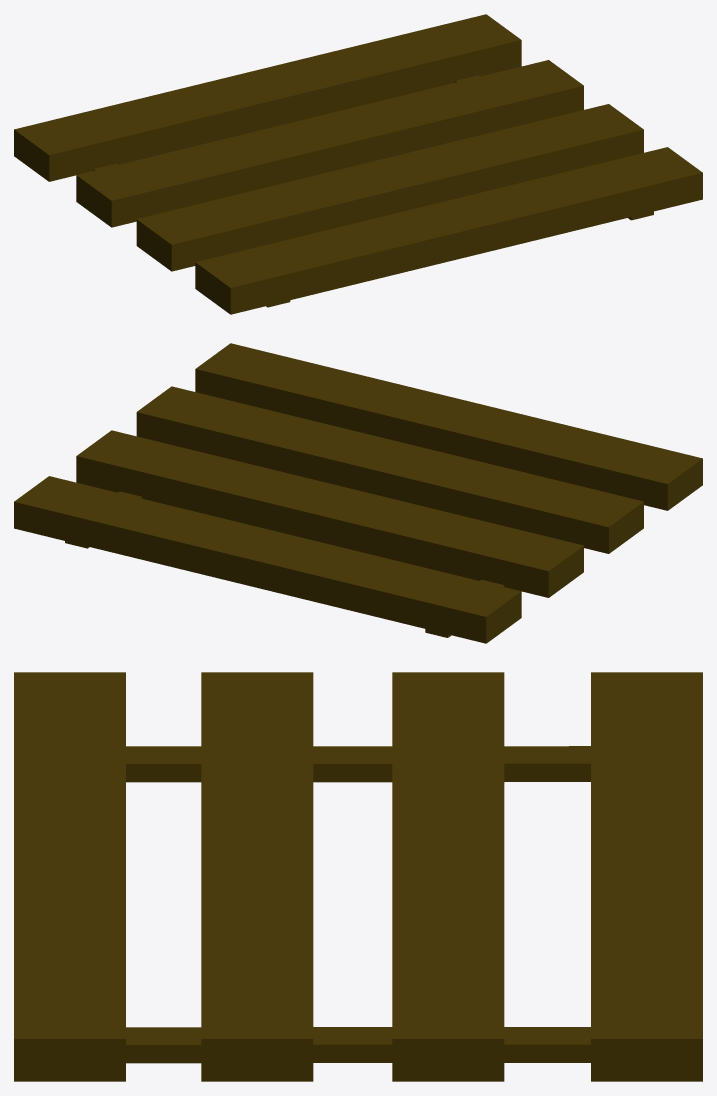
The model's file is ita.fbx.
3 views of the same model, one above another, from view 1: azimuth 30°, elevation 25°; view 2: azimuth 150°, elevation 25°; view 3: azimuth 270°, elevation 25° (orthographic). The views are drawn at different scales.
Parts seen in each view (by area): view 1: pCube4, pCube1, pCube3, pCube6; view 2: pCube1, pCube3, pCube6, pCube4; view 3: pCube3, pCube6, pCube1, pCube4, pCube8, pCube7.
Part boxes in pixels (x1,y1,x2,y2): pCube4: (195, 147, 702, 314); pCube1: (14, 14, 521, 181); pCube3: (76, 60, 583, 227); pCube6: (136, 104, 643, 271); pCube1: (14, 476, 521, 643); pCube3: (76, 430, 583, 597); pCube6: (136, 386, 643, 553); pCube4: (195, 343, 702, 510); pCube3: (392, 672, 504, 1081); pCube6: (201, 672, 313, 1081); pCube1: (591, 672, 702, 1081); pCube4: (14, 672, 125, 1081); pCube8: (126, 746, 590, 782); pCube7: (126, 1027, 590, 1063).
Size of the model in its own units: 6.55 by 0.48 by 5.2.
